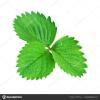Strawberry leaf: (51, 34, 89, 79), (13, 11, 57, 47), (16, 41, 57, 79)
